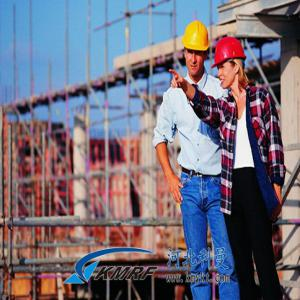red: (214, 37, 247, 92)
yellow: (182, 20, 210, 77)
